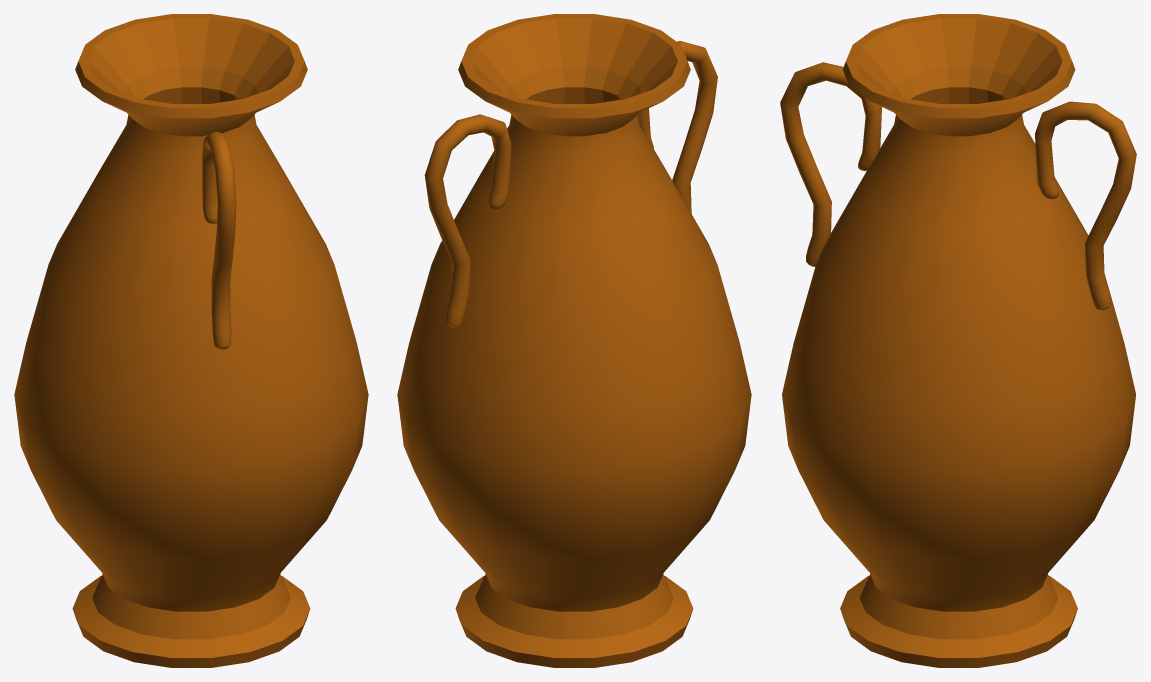
Rendered from Vase 3.FBX.
The picture shows the model from 3 angles, left to right: view 1: azimuth 30°, elevation 25°; view 2: azimuth 150°, elevation 25°; view 3: azimuth 270°, elevation 25°; orthographic projection.
Visible parts, largest first — view 1: Vase3; view 2: Vase3; view 3: Vase3.
Part boxes in pixels (x1,y1,x2,y2): Vase3: (14, 14, 368, 667); Vase3: (397, 14, 751, 667); Vase3: (780, 14, 1136, 667).
Size of the model in its own units: 163 by 288 by 166.
